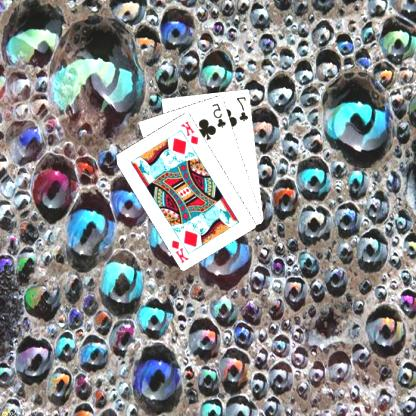5C: (211, 100, 229, 129)
7C: (235, 94, 251, 122)
KD: (180, 118, 202, 146), (170, 237, 192, 264)
